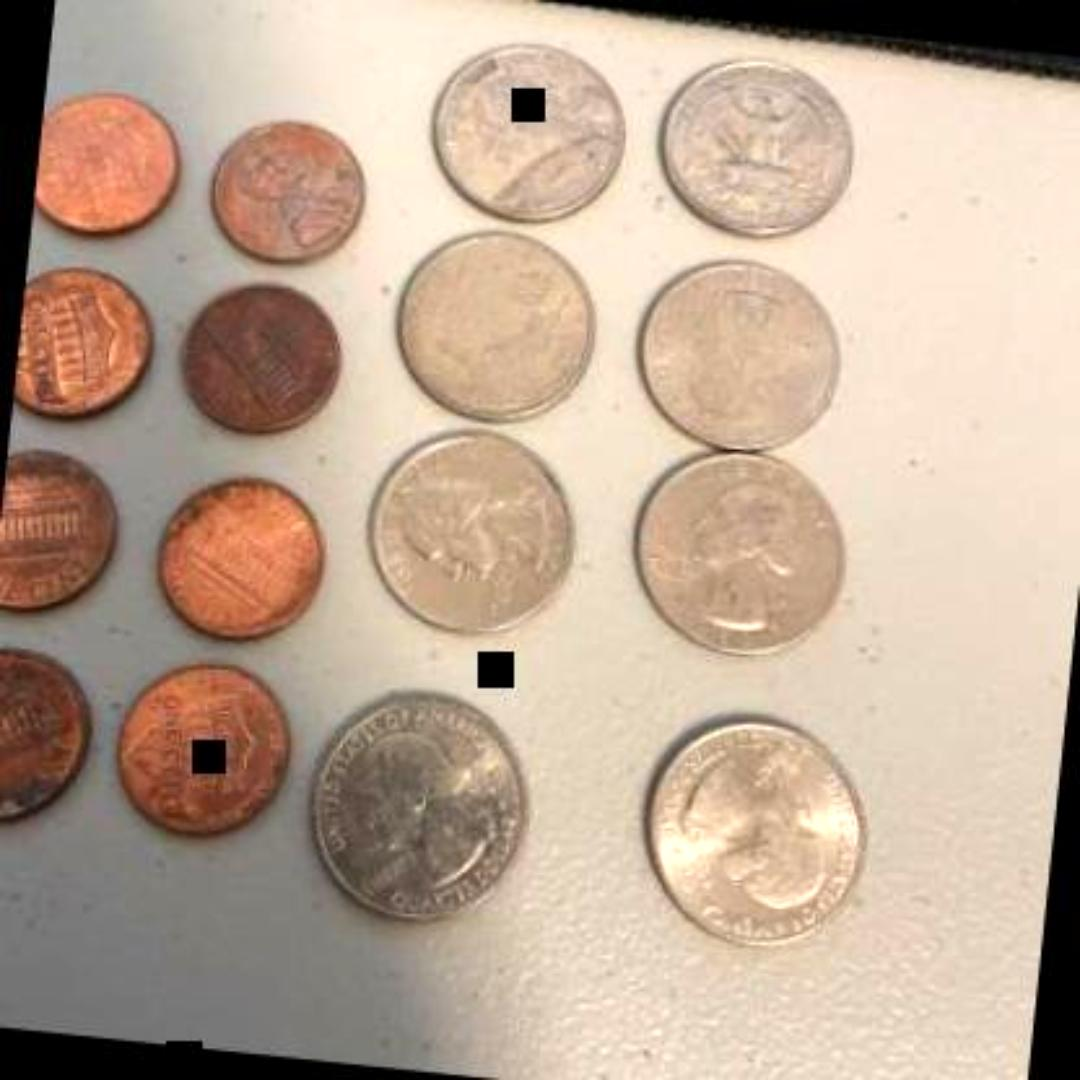Penny: (103, 642, 297, 840), (144, 462, 332, 650), (168, 262, 348, 443), (200, 99, 373, 265), (30, 73, 190, 241), (11, 256, 157, 430), (0, 434, 116, 610), (0, 639, 98, 823)
Quarter: (632, 704, 878, 958), (301, 674, 537, 923), (624, 436, 857, 656), (358, 414, 584, 638), (386, 209, 606, 429), (626, 243, 849, 455), (650, 36, 872, 234), (422, 26, 632, 224)
